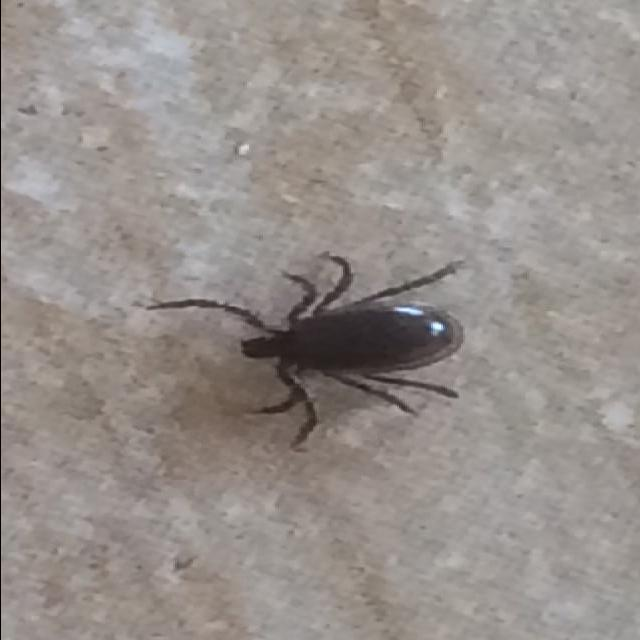Ixodes Ricinus-M: (144, 253, 462, 451)
